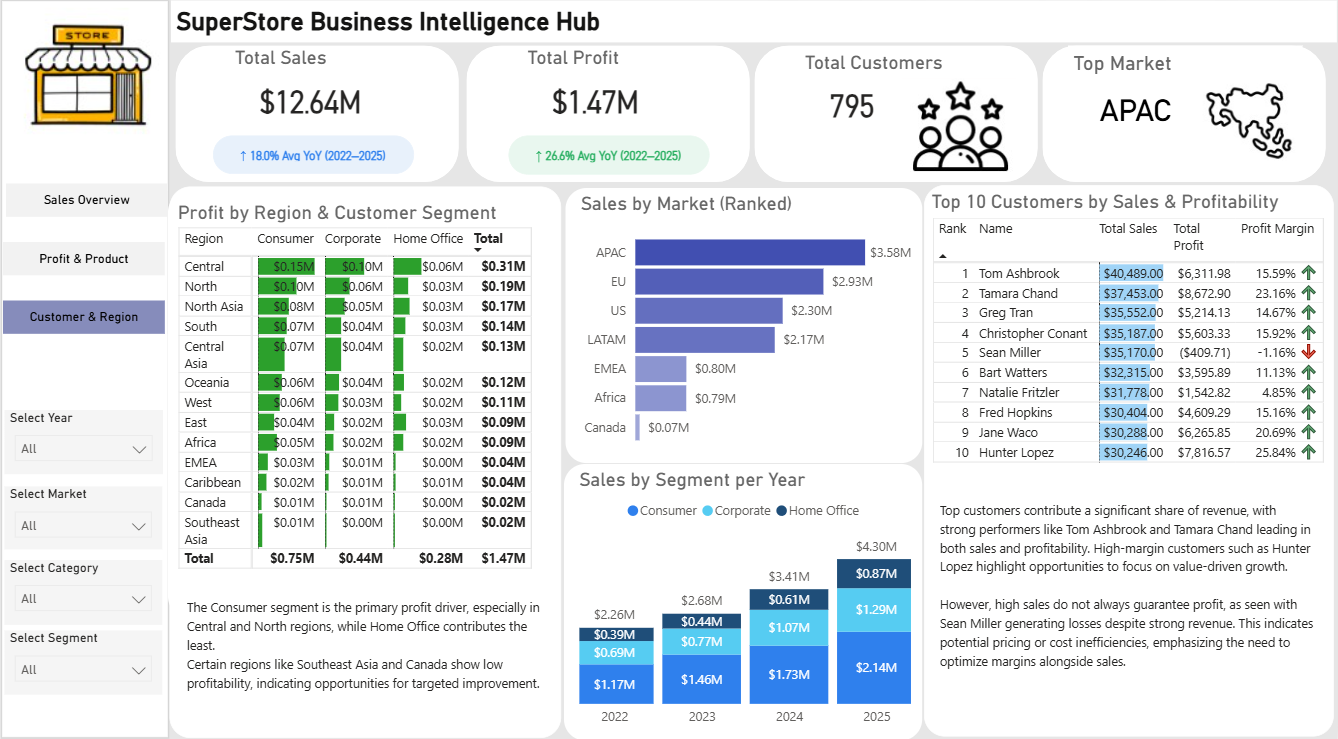

The page's visual inventory and layout, read from the dashboard file:
{"tool":"powerbi","page":{"name":"Customer & Region","canvas":[1280,720],"ordinal":2},"visuals":[{"type":"shape","box":[4.4,10.2,160.1,704.5],"z":0},{"type":"shape","box":[170,52.7,270.4,130.4],"z":1000},{"type":"slicer","title":"Select Year","fields":{"Values":["Date.Year"]},"box":[6.9,401.2,151.2,61.2],"z":2000},{"type":"cardVisual","title":"Total Sales","fields":{"Data":["Measure.Total Sales"]},"box":[222.5,54.3,197.2,81.1],"z":3000},{"type":"slicer","title":"Select Market","fields":{"Values":["Region.market"]},"box":[7.5,473.8,150.6,60],"z":4000},{"type":"shape","box":[723,53.5,270.4,130.4],"z":5000,"group":"g1"},{"type":"cardVisual","title":"Total Sales","fields":{"Data":["Measure.Sales KPI Label1"]},"box":[206.4,138.3,191.7,36.7],"z":5000},{"type":"cardVisual","title":"Total Customers","fields":{"Data":["Customer.Total Customers1"]},"box":[766.6,59.9,197.2,81.1],"z":6000,"group":"g1"},{"type":"slicer","title":"Select Category","fields":{"Values":["Product.category"]},"box":[7.5,543.8,150.6,61.9],"z":6000},{"type":"shape","box":[448.4,52.7,270.4,130.4],"z":7000},{"type":"slicer","title":"Select Segment","fields":{"Values":["Customer.segment"]},"box":[7.5,611.2,150.6,61.2],"z":8000},{"type":"cardVisual","title":"Total Profit","fields":{"Data":["Measure.Total Profit"]},"box":[500.9,54.3,197.2,81.1],"z":9000},{"type":"actionButton","box":[8,184.5,154.3,31.8],"z":10000},{"type":"shape","box":[998.3,52.5,270.4,130.4],"z":11000},{"type":"image","box":[6.4,14.3,154.3,125.7],"z":12000},{"type":"textbox","box":[166.6,9.5,1113.4,39.8],"z":13000},{"type":"group","id":"g1","title":"Group 1","box":[723,53.5,270.4,130.4],"z":14000},{"type":"cardVisual","title":"Total Sales","fields":{"Data":["Measure.Profit KPI Label"]},"box":[488.4,138.4,191.9,37.2],"z":15000},{"type":"shape","box":[165.4,187.7,373.8,526.5],"z":16000},{"type":"pivotTable","title":"Profit by Region & Customer Segment","fields":{"Rows":["Region.region"],"Values":["Measure.Total Profit"],"Columns":["Customer.segment"]},"box":[163.8,192.5,373.8,407.2],"z":17000},{"type":"columnChart","title":"Sales by Segment per Year","fields":{"Y":["Measure.Total Sales"],"Series":["Customer.segment"],"Category":["Date.Year"]},"box":[540.8,453.3,342,264],"z":18000},{"type":"textbox","box":[176.6,574.2,349.9,117.7],"z":19000},{"type":"barChart","title":"Sales by Market (Ranked)","fields":{"Y":["Measure.Total Sales"],"Category":["Region.market"]},"box":[542.4,189.3,340.4,262.5],"z":20000},{"type":"shape","box":[885.3,186.1,391.3,526.5],"z":21000},{"type":"tableEx","title":"Top 10 Customers by Sales & Profitability","fields":{"Values":["Measure.Customer Rank","Customer.customer_name","Measure.Total Sales","Measure.Total Profit","Measure.Profit Margin"]},"box":[882.1,192.5,394.5,300.6],"z":22000},{"type":"textbox","box":[895.5,482,367.4,205.2],"z":23000},{"type":"textbox","box":[1022.8,52.5,224.3,120.9],"z":24000},{"type":"image","box":[1135.7,74.8,124.1,89.1],"z":25000},{"type":"image","box":[863.7,84.3,109.8,89.1],"z":26000},{"type":"actionButton","box":[6.4,240.9,154.5,31.8],"z":27000},{"type":"actionButton","box":[6.4,296.4,154.5,31.8],"z":28000}]}

Visuals, with their boxes in screenshot pixels (x1, y1, x2, y2), scaled from the page's 1280x720 canvas onto the 1338x739 screenshot:
shape: (x1=5, y1=10, x2=172, y2=734)
shape: (x1=178, y1=54, x2=460, y2=188)
"Select Year" slicer: (x1=7, y1=412, x2=165, y2=475)
"Total Sales" cardVisual: (x1=233, y1=56, x2=439, y2=139)
"Select Market" slicer: (x1=8, y1=486, x2=165, y2=548)
shape: (x1=756, y1=55, x2=1038, y2=189)
"Total Sales" cardVisual: (x1=216, y1=142, x2=416, y2=180)
"Total Customers" cardVisual: (x1=801, y1=61, x2=1007, y2=145)
"Select Category" slicer: (x1=8, y1=558, x2=165, y2=622)
shape: (x1=469, y1=54, x2=751, y2=188)
"Select Segment" slicer: (x1=8, y1=627, x2=165, y2=690)
"Total Profit" cardVisual: (x1=524, y1=56, x2=730, y2=139)
actionButton: (x1=8, y1=189, x2=170, y2=222)
shape: (x1=1044, y1=54, x2=1326, y2=188)
image: (x1=7, y1=15, x2=168, y2=144)
textbox: (x1=174, y1=10, x2=1337, y2=51)
"Group 1" group: (x1=756, y1=55, x2=1038, y2=189)
"Total Sales" cardVisual: (x1=511, y1=142, x2=711, y2=180)
shape: (x1=173, y1=193, x2=564, y2=733)
"Profit by Region & Customer Segment" pivotTable: (x1=171, y1=198, x2=562, y2=616)
"Sales by Segment per Year" columnChart: (x1=565, y1=465, x2=923, y2=736)
textbox: (x1=185, y1=589, x2=550, y2=710)
"Sales by Market (Ranked)" barChart: (x1=567, y1=194, x2=923, y2=464)
shape: (x1=925, y1=191, x2=1334, y2=731)
"Top 10 Customers by Sales & Profitability" tableEx: (x1=922, y1=198, x2=1334, y2=506)
textbox: (x1=936, y1=495, x2=1320, y2=705)
textbox: (x1=1069, y1=54, x2=1304, y2=178)
image: (x1=1187, y1=77, x2=1317, y2=168)
image: (x1=903, y1=87, x2=1018, y2=178)
actionButton: (x1=7, y1=247, x2=168, y2=280)
actionButton: (x1=7, y1=304, x2=168, y2=337)
